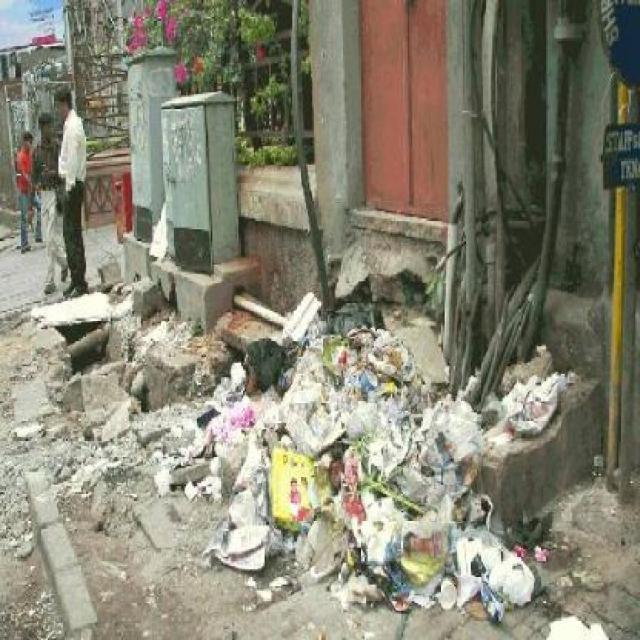garbage: (146, 317, 622, 638), (60, 352, 147, 506)
